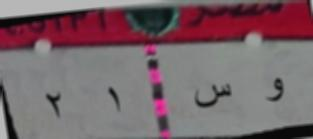1: (103, 75, 127, 118)
2: (37, 84, 71, 130)
seen: (187, 74, 236, 117)
waw: (256, 69, 292, 117)
